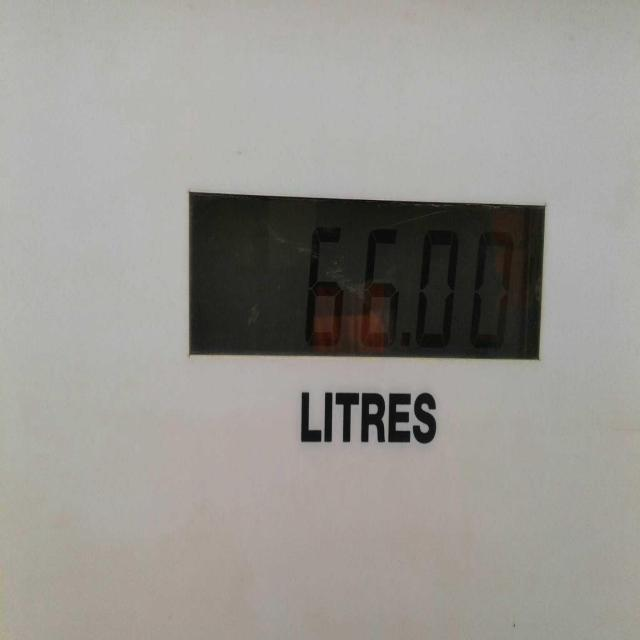.: (399, 324, 414, 353)
0: (414, 207, 458, 370), (471, 230, 514, 350)
6: (296, 206, 349, 364), (360, 208, 401, 368)
